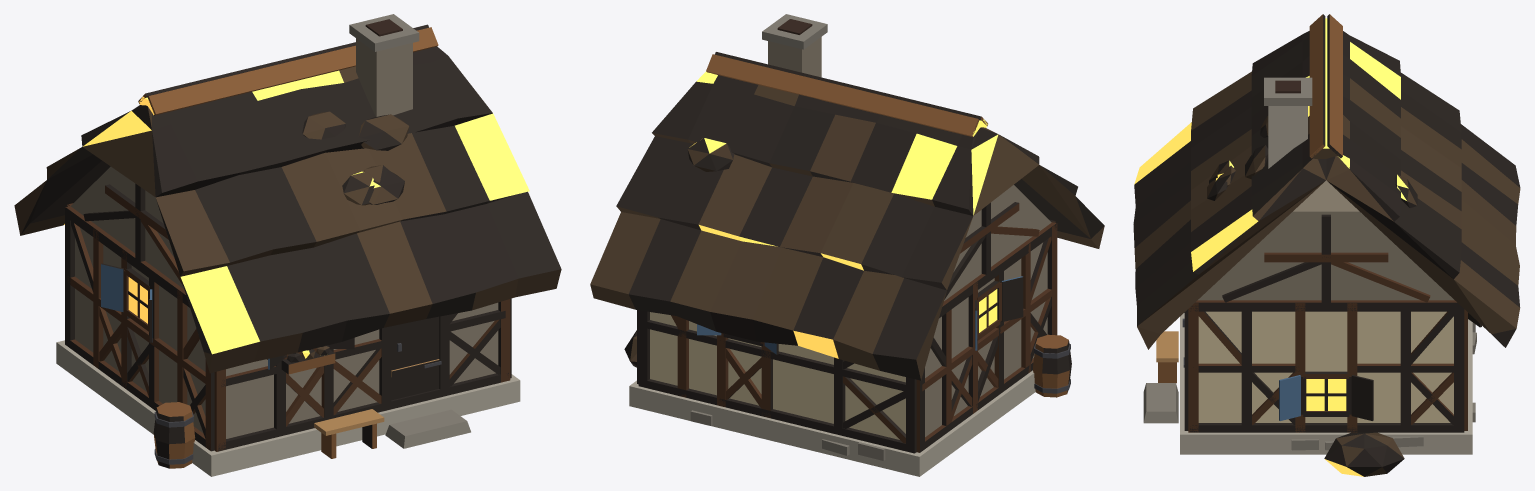
Rendered from Dorf_Bauernhaus_B_Beschaedigt.fbx.
The picture shows the model from 3 angles, left to right: view 1: azimuth 30°, elevation 25°; view 2: azimuth 150°, elevation 25°; view 3: azimuth 270°, elevation 25°; orthographic projection. The views are drawn at different scales.
Parts seen in each view (by area): view 1: Dorf_Bauernhaus_B_Beschaedigt; view 2: Dorf_Bauernhaus_B_Beschaedigt; view 3: Dorf_Bauernhaus_B_Beschaedigt.
Boxes of the visible parts, <box> form: Dorf_Bauernhaus_B_Beschaedigt: <box>14,14,561,476</box>; Dorf_Bauernhaus_B_Beschaedigt: <box>590,14,1104,476</box>; Dorf_Bauernhaus_B_Beschaedigt: <box>1133,14,1520,476</box>.
Bounding box in the file's own units: 6.73 × 5.77 × 6.09.
